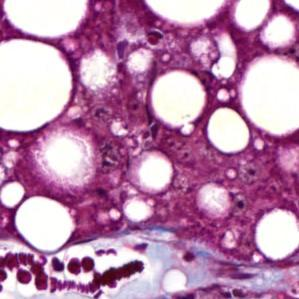steatosis: (152, 68, 201, 122), (256, 205, 299, 260), (205, 104, 250, 155)
